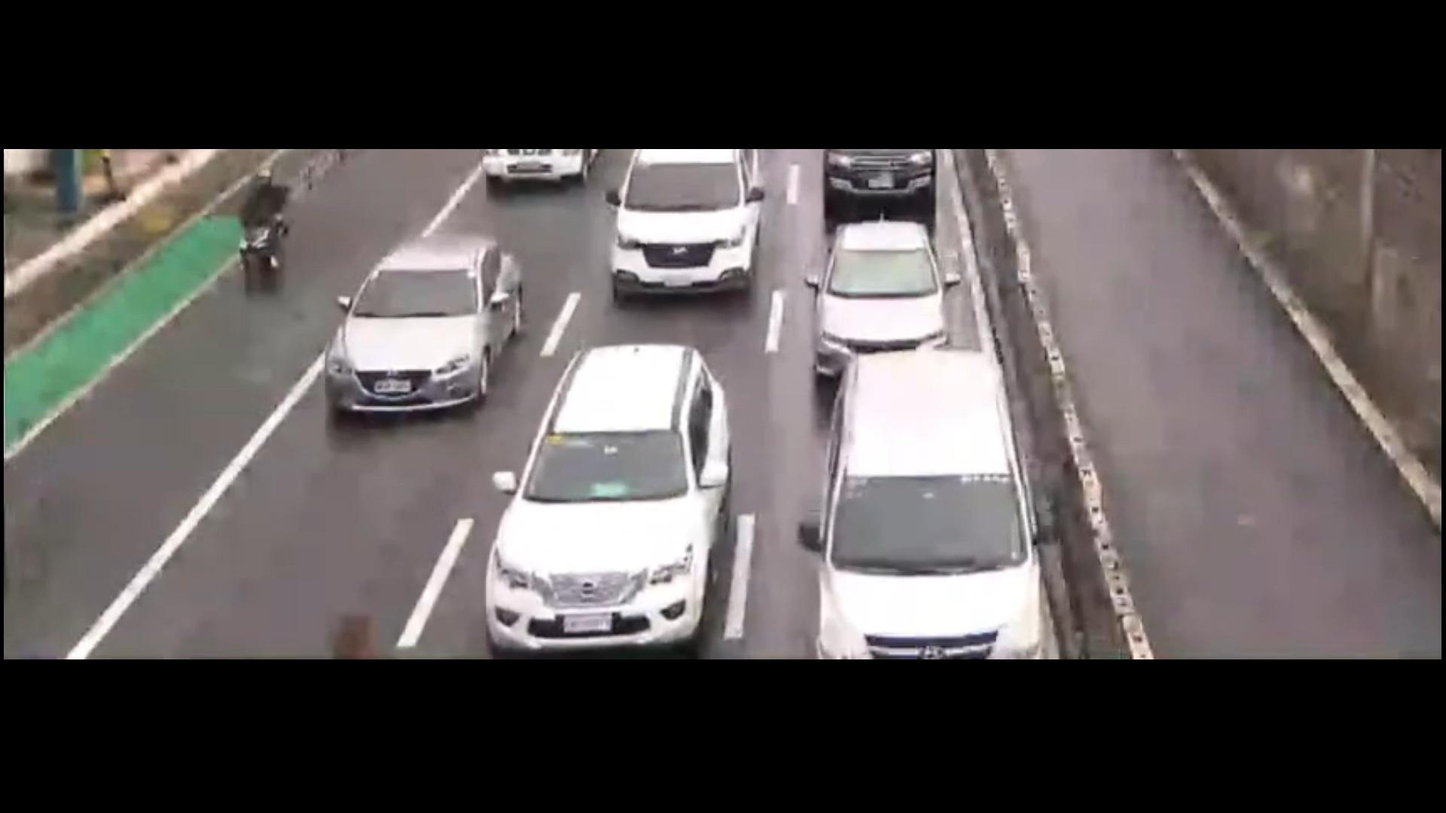Motorcycle: (228, 158, 304, 292)
SUV: (466, 330, 755, 655), (584, 149, 780, 310), (802, 151, 949, 215)
Sedan: (287, 226, 541, 434), (813, 209, 983, 365)
Van: (797, 347, 1072, 660)
